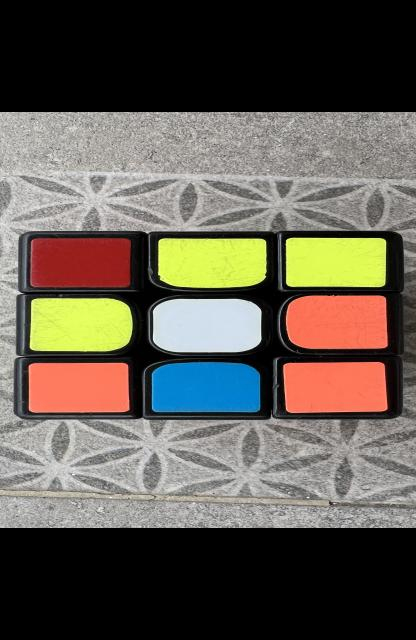Blue: (151, 362, 260, 412)
Orange: (285, 296, 386, 349), (283, 362, 386, 413), (28, 363, 128, 413)
Red: (30, 238, 130, 288)
White: (151, 299, 261, 352)
Yellow: (28, 298, 131, 352), (156, 239, 266, 288), (285, 238, 386, 288)
